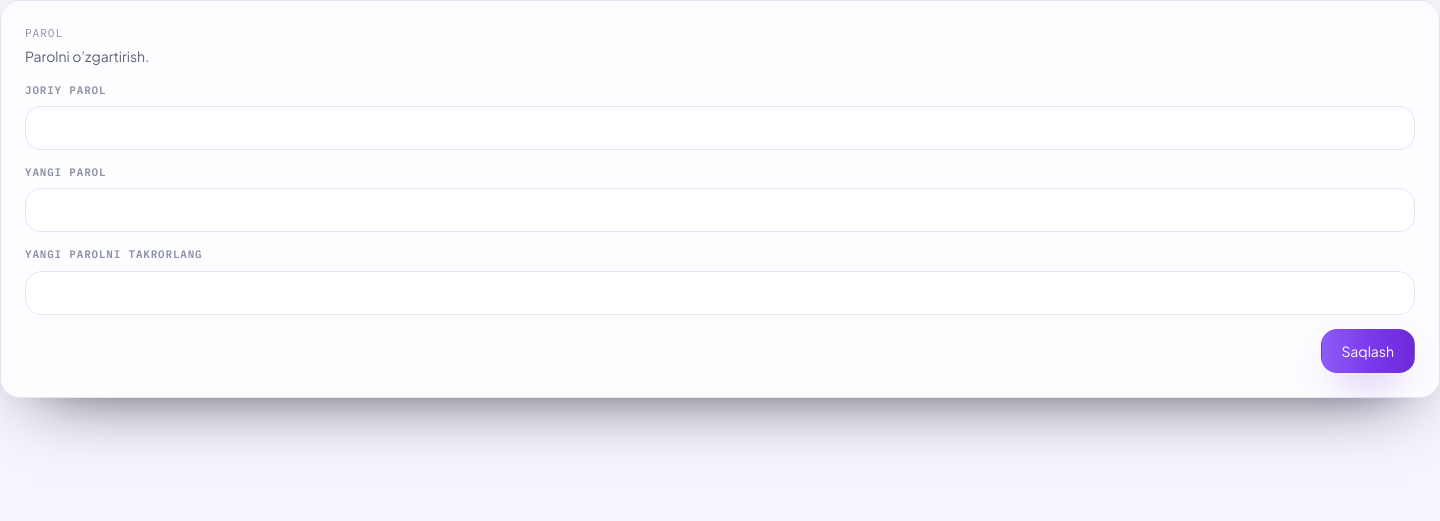
Test case: PasswordSection › parollar mos kelmasa so’rov umuman yuborilmaydi
Type "eski-parol" into the password field labelled "Joriy parol" at [720, 128], box [25,106,1415,150]
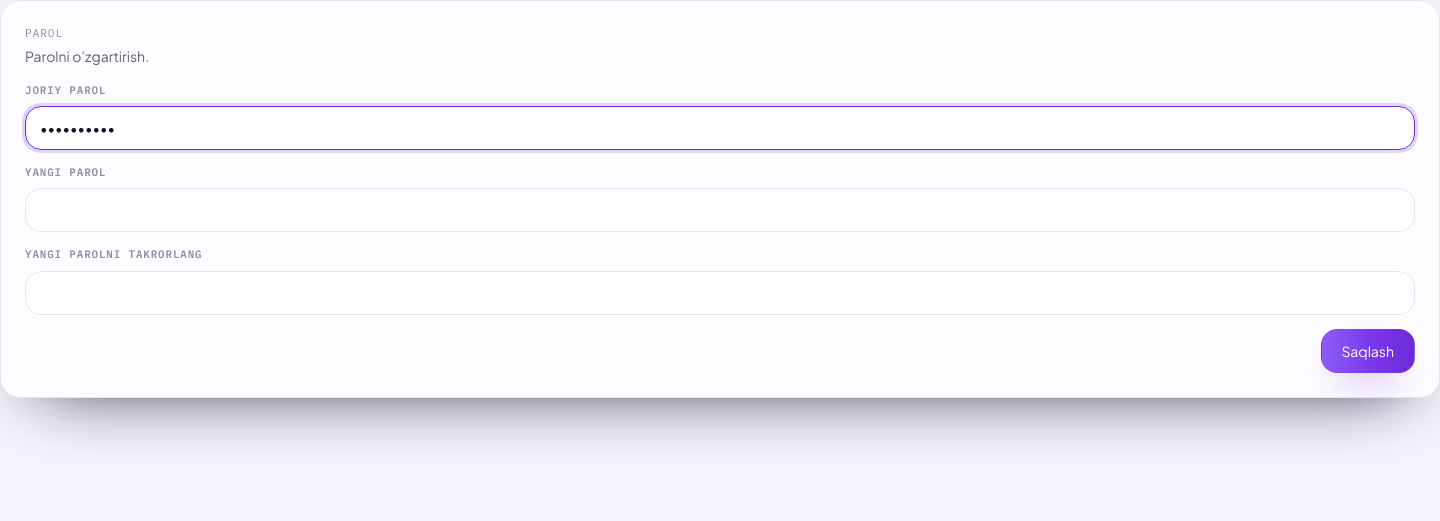
Type "yangi-parol-1" into the password field labelled "Yangi parol" at [720, 210], box [25,188,1415,232]
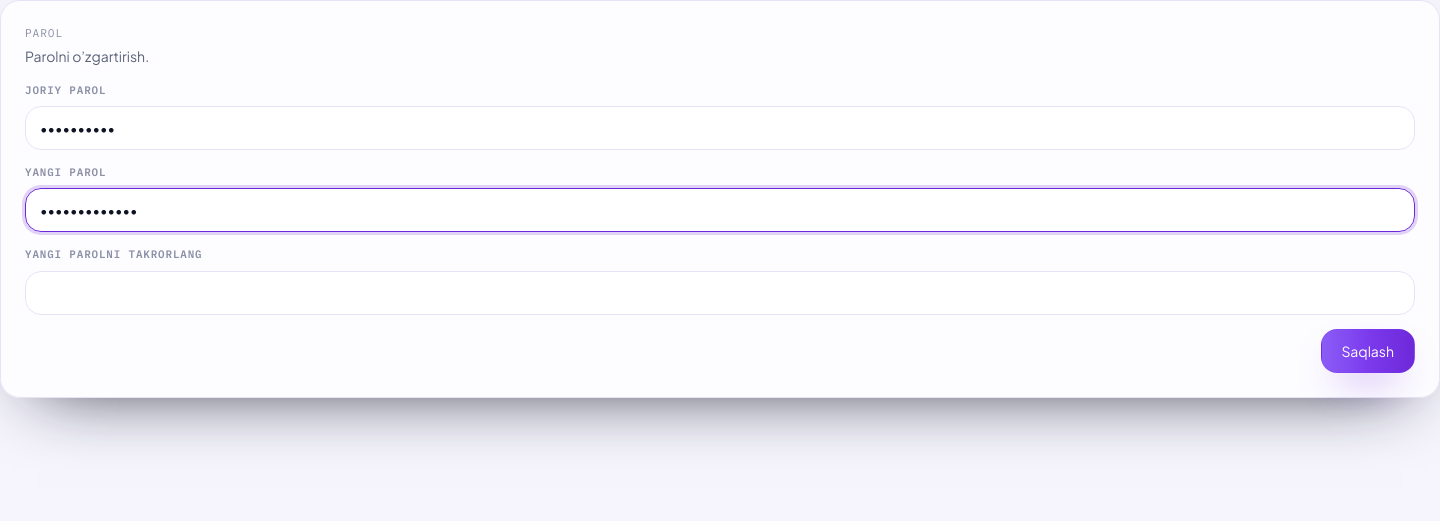
Type "boshqa-parol-2" into the password field labelled "Yangi parolni takrorlang" at [720, 293], box [25,271,1415,315]
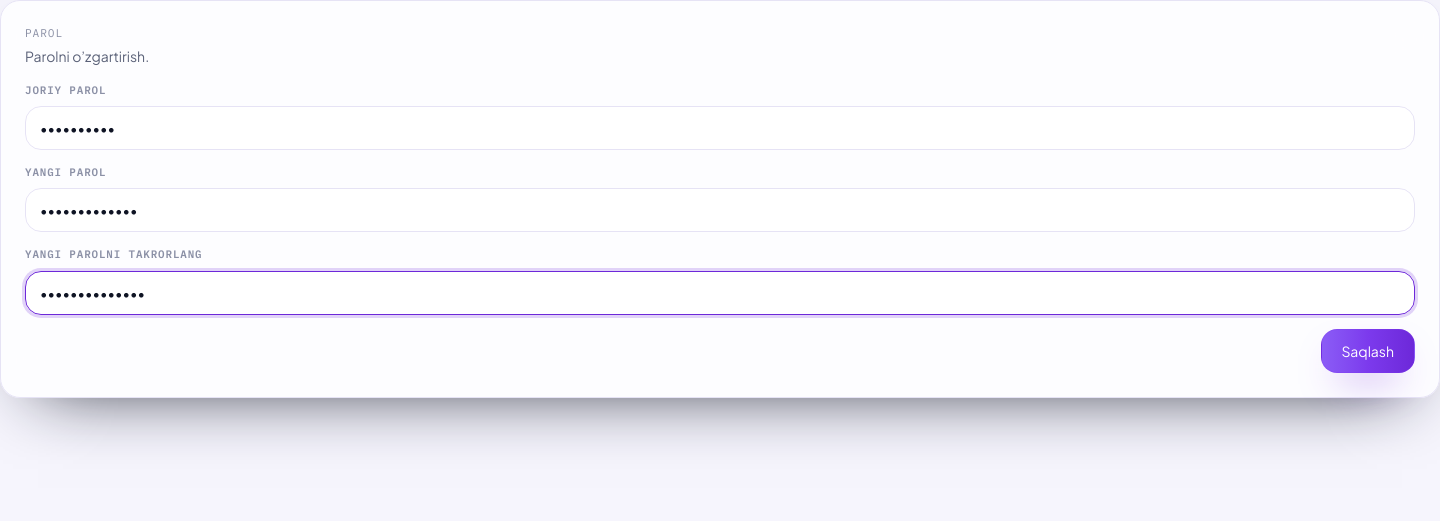
Click the button "Saqlash" at [1368, 351], box [1320,329,1415,373]
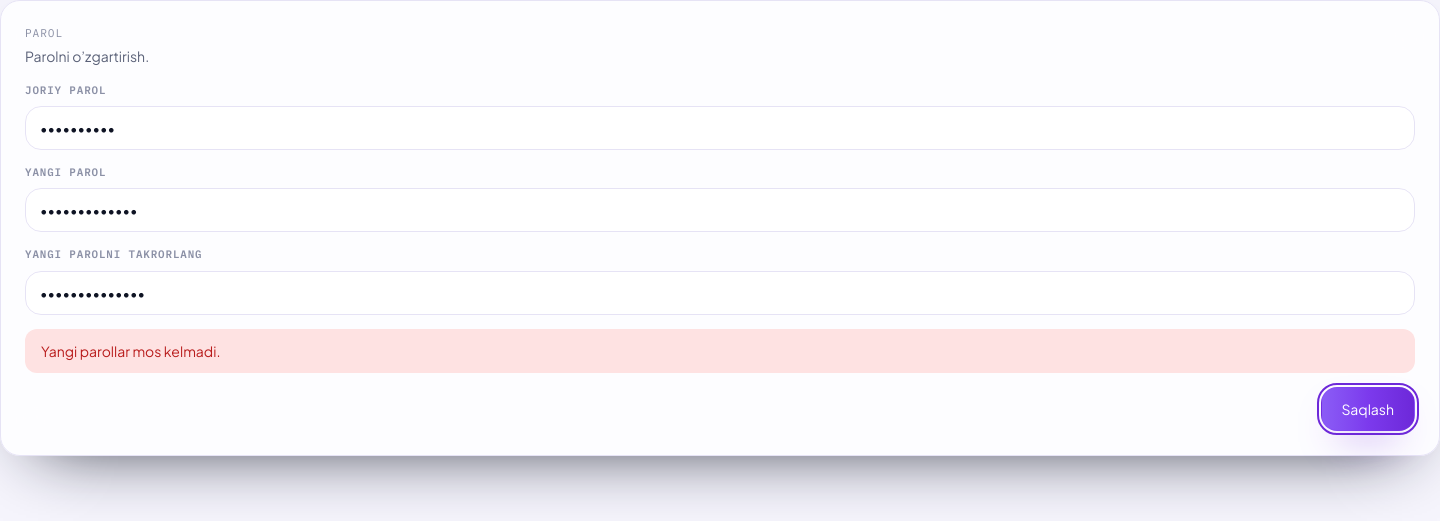
Expected: the message "Yangi parollar mos kelmadi." is shown, [25,329,1415,373]
